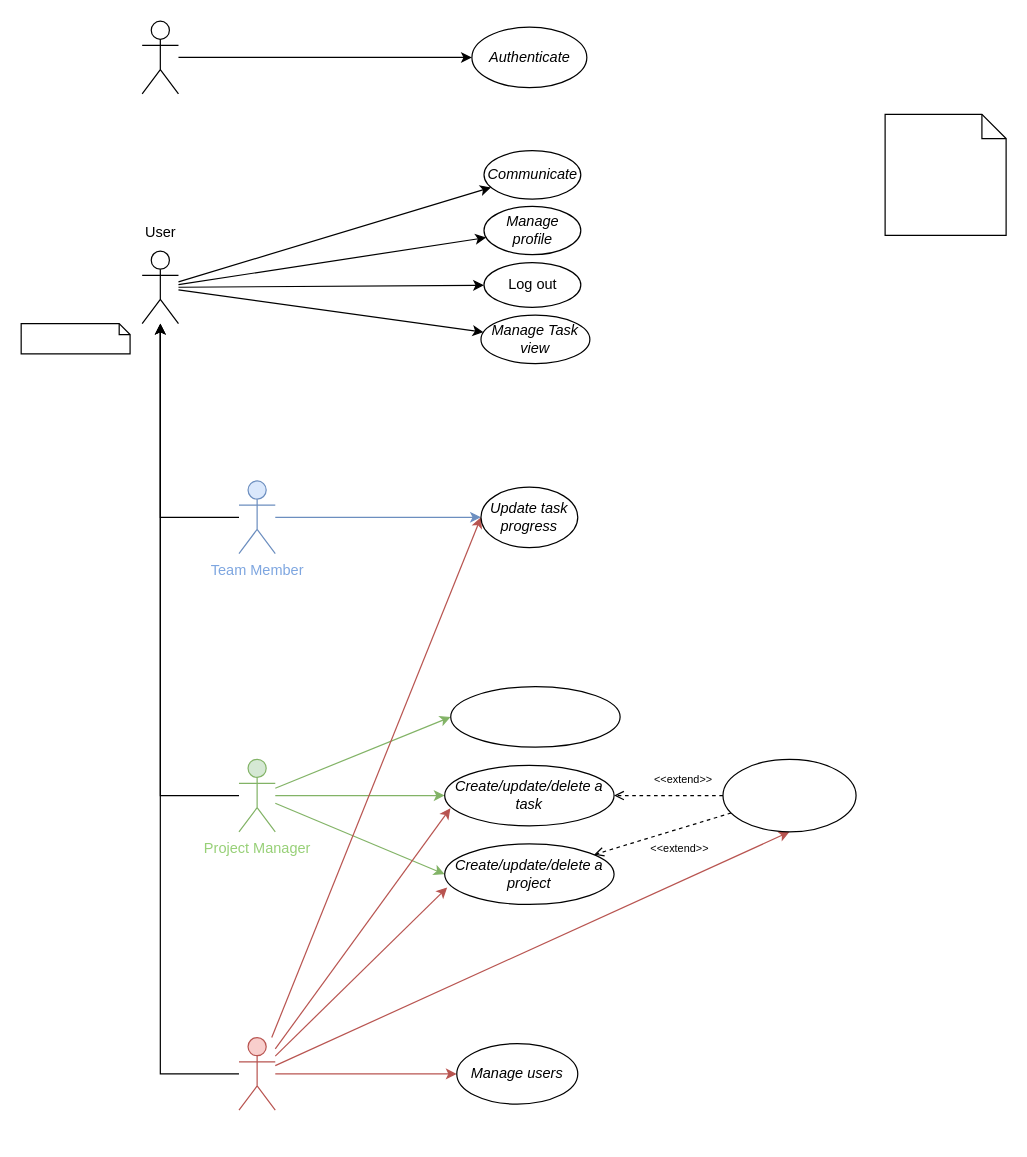
Some shapes in this 1027 by 1157 pixel diagram are drawn without their labels. Each missing label, with the centre of its shape:
Administrator: the point at 256,1073
Assign/unassign team members: the point at 789,795
Create time reports: the point at 535,716
Inheritance: the point at 75,338
Italic text means a simplification of a use case: the point at 945,174
Unknown: the point at 159,57
